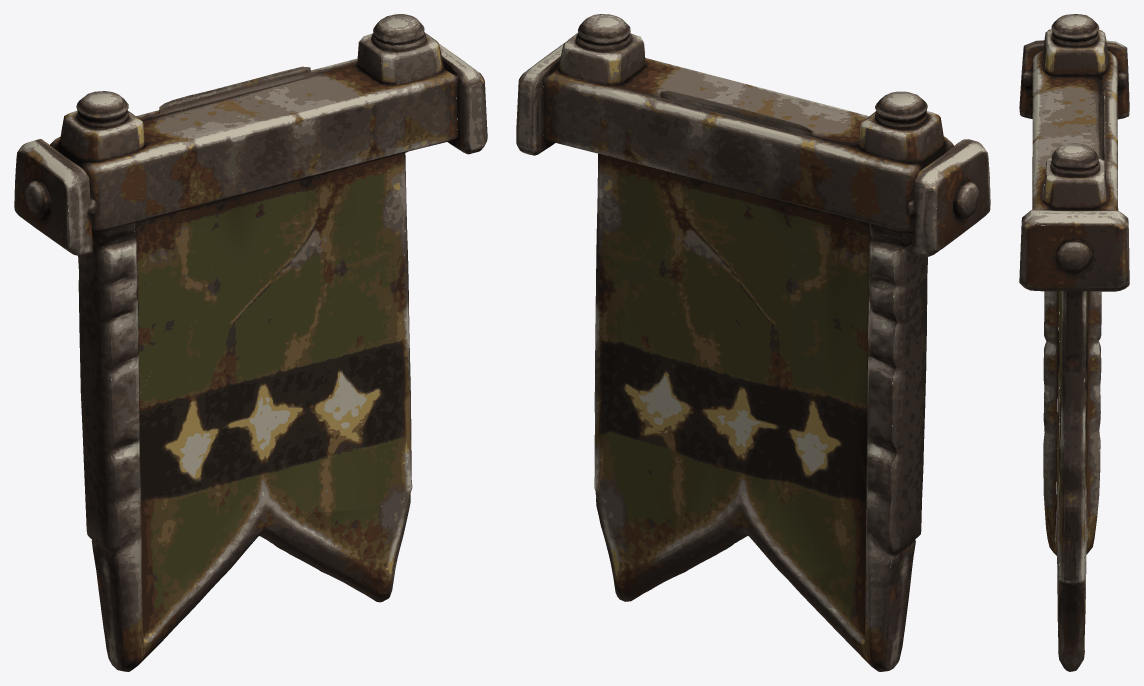
The model's file is pl_pennant.glb.
3 views of the same model, side by side, from view 1: azimuth 30°, elevation 25°; view 2: azimuth 150°, elevation 25°; view 3: azimuth 270°, elevation 25° (orthographic). The views are drawn at different scales.
Parts seen in each view (by area): view 1: pl_pennant; view 2: pl_pennant; view 3: pl_pennant.
Boxes of the visible parts, x1,y1,x2,y2 form: pl_pennant: (14, 14, 487, 671); pl_pennant: (516, 14, 990, 671); pl_pennant: (1019, 14, 1129, 671).
Size of the model in its own units: 0.16 by 0.2018 by 0.0378.
1 material, 1 textured.
